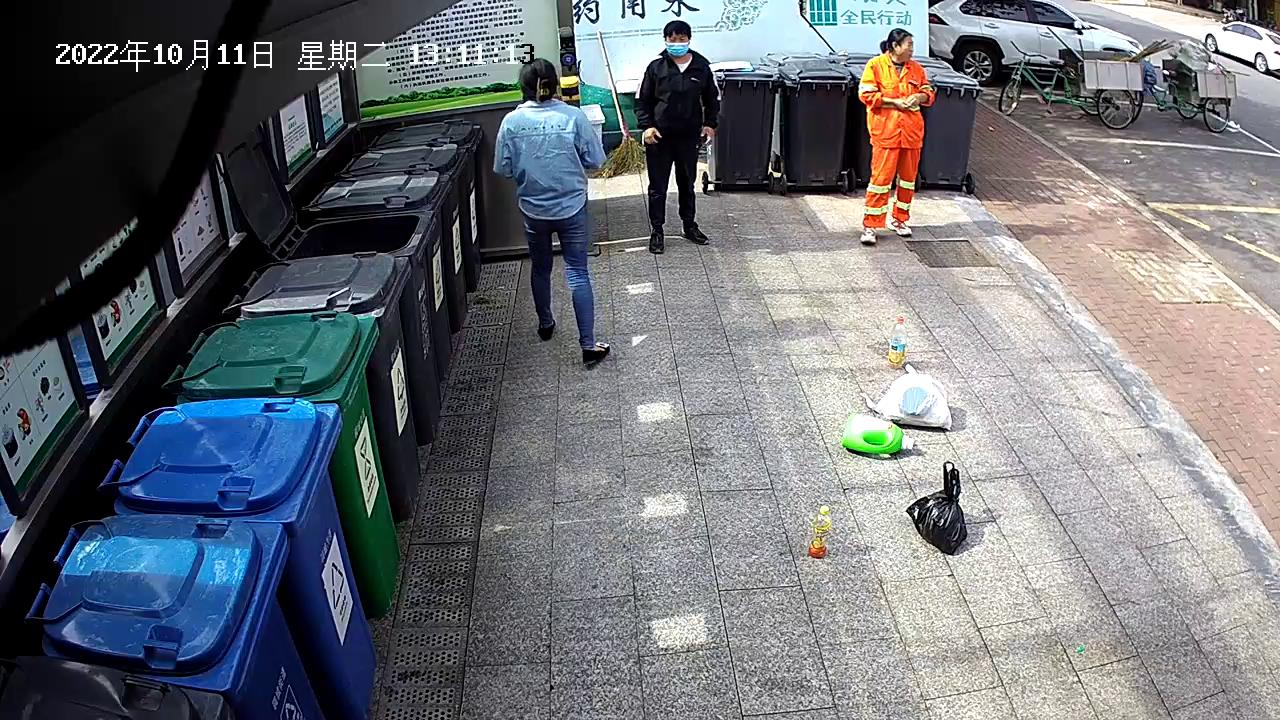garbage-bag: (903, 459, 969, 557), (873, 371, 955, 431)
person: (632, 20, 720, 255)
suliaozhipin: (837, 410, 917, 457), (807, 501, 834, 560), (887, 313, 911, 370)
worker: (491, 57, 612, 370), (856, 26, 935, 245)
